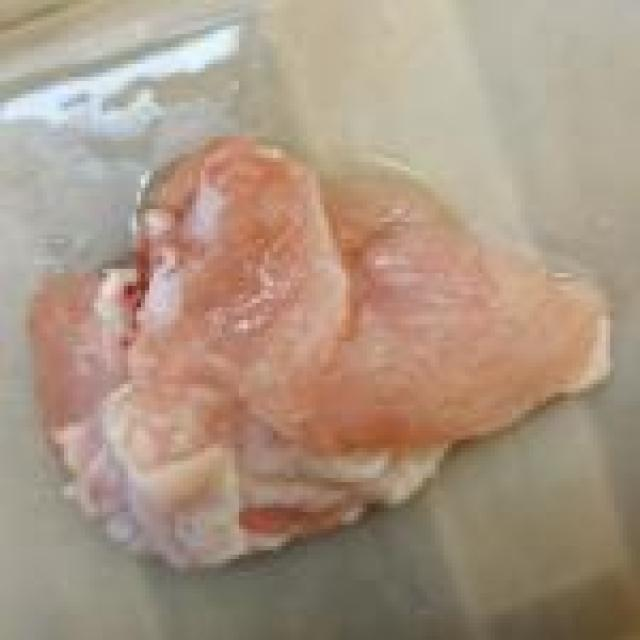breast: (31, 142, 611, 564)
